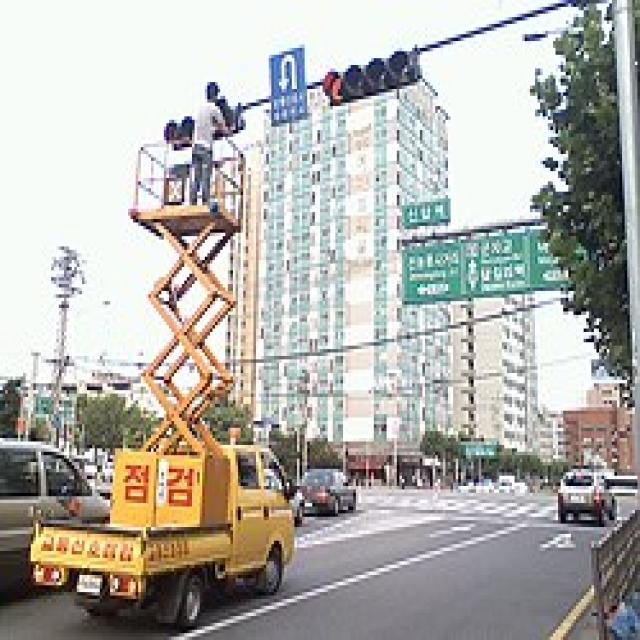red_light: (324, 67, 418, 101)
